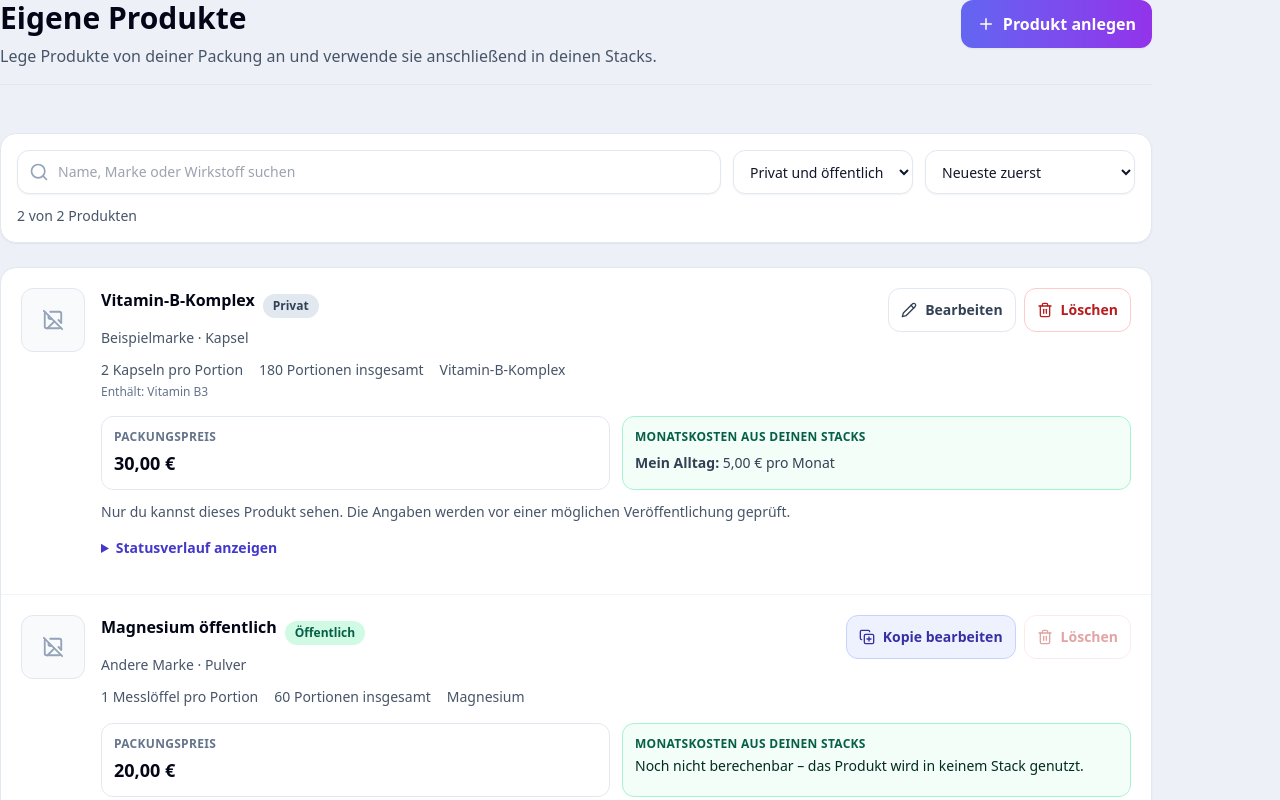
Test case: MyProductsPage › trennt Packungspreis und echte Stack-Monatskosten und sucht über Wirkstoffteile
Expected: the text "Packungspreis" is shown 2 times, [114,428,216,445]; [114,735,216,752]
Expected: the text "Mein Alltag:" is shown, [635,453,719,472]
Type "B3" into the search field with placeholder "Name, Marke oder Wirkstoff suchen".
click(369, 172); type("B3")  # box [17,150,721,194]
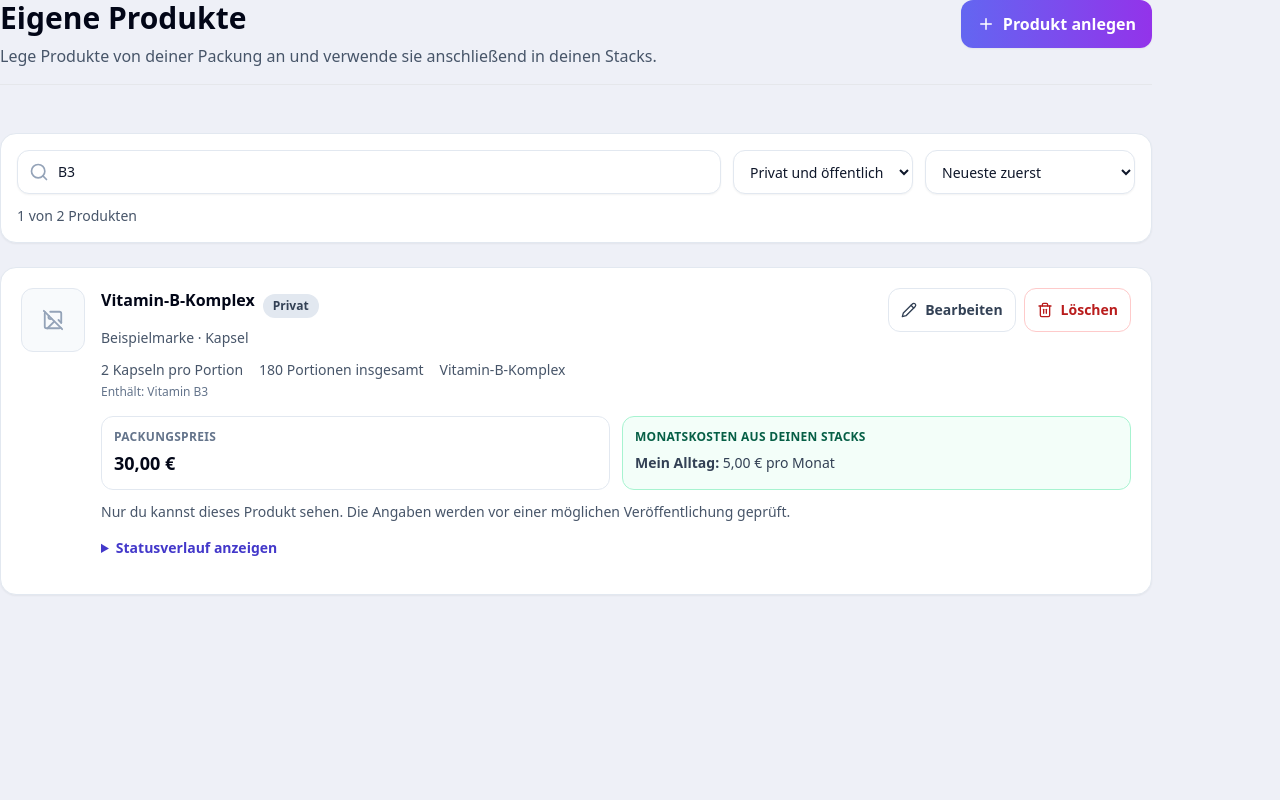
Expected: the heading "Vitamin-B-Komplex" is shown, [101,288,255,312]
Expected: the heading "Magnesium öffentlich" is gone
